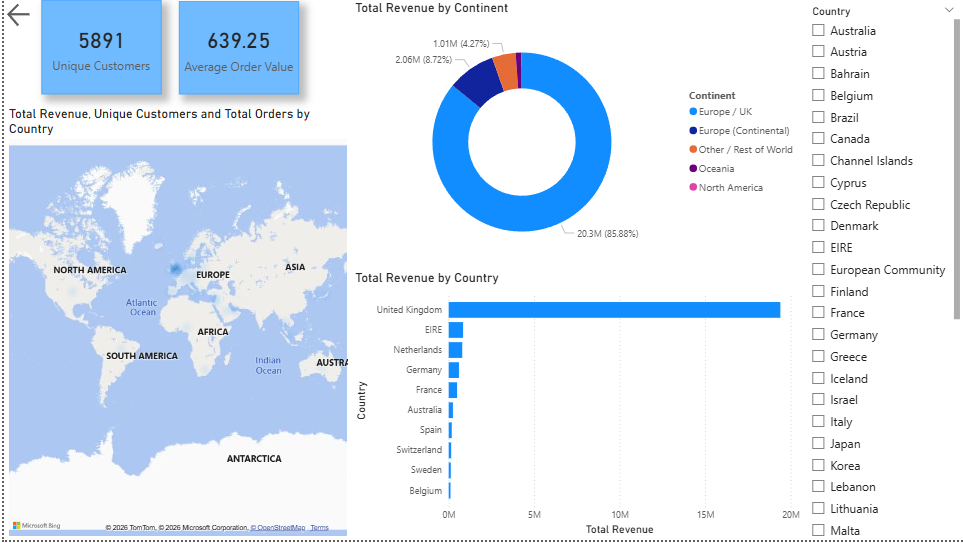

What the dashboard file says about the page in this screenshot:
{"tool":"powerbi","page":{"name":"Geography Page","canvas":[1280,720],"ordinal":2},"visuals":[{"type":"map","fields":{"Category":["dim_customer.Country"],"Size":["fact_sales.Total Revenue"]},"box":[1.4,141.4,461.4,578.6],"z":1000},{"type":"barChart","fields":{"Category":["dim_customer.Country"],"Y":["fact_sales.Total Revenue"]},"box":[462.9,360,602.9,358.6],"z":2000},{"type":"card","fields":{"Values":["fact_sales.Unique Customers"]},"box":[50,0,160,125.7],"z":3000},{"type":"card","fields":{"Values":["fact_sales.Average Order Value"]},"box":[232.9,1.4,160,124.3],"z":4000},{"type":"slicer","fields":{"Values":["dim_customer.Country"]},"box":[1065.7,1.4,214.3,718.6],"z":5000},{"type":"donutChart","fields":{"Y":["fact_sales.Total Revenue"],"Category":["dim_customer.Continent"]},"box":[462.9,0,602.9,360],"z":5001},{"type":"actionButton","box":[0,0,100,40],"z":5002}]}

Visuals, with their boxes on the page's 1280x720 design canvas (x1, y1, x2, y2). These are canvas units, not pixel positions in the 963x543 screenshot, which may show the page scaled, cropped or inside an application window:
map - dim_customer.Country x fact_sales.Total Revenue: [x1=1, y1=141, x2=463, y2=720]
barChart - dim_customer.Country x fact_sales.Total Revenue: [x1=463, y1=360, x2=1066, y2=719]
card - fact_sales.Unique Customers: [x1=50, y1=0, x2=210, y2=126]
card - fact_sales.Average Order Value: [x1=233, y1=1, x2=393, y2=126]
slicer - dim_customer.Country: [x1=1066, y1=1, x2=1280, y2=720]
donutChart - fact_sales.Total Revenue x dim_customer.Continent: [x1=463, y1=0, x2=1066, y2=360]
actionButton: [x1=0, y1=0, x2=100, y2=40]
